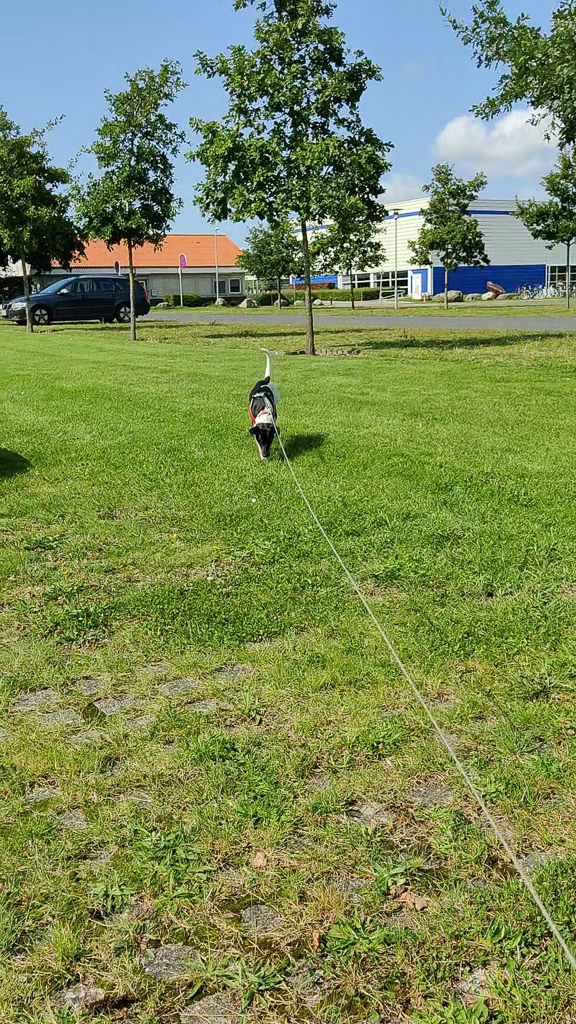Dog: (234, 345, 294, 466)
